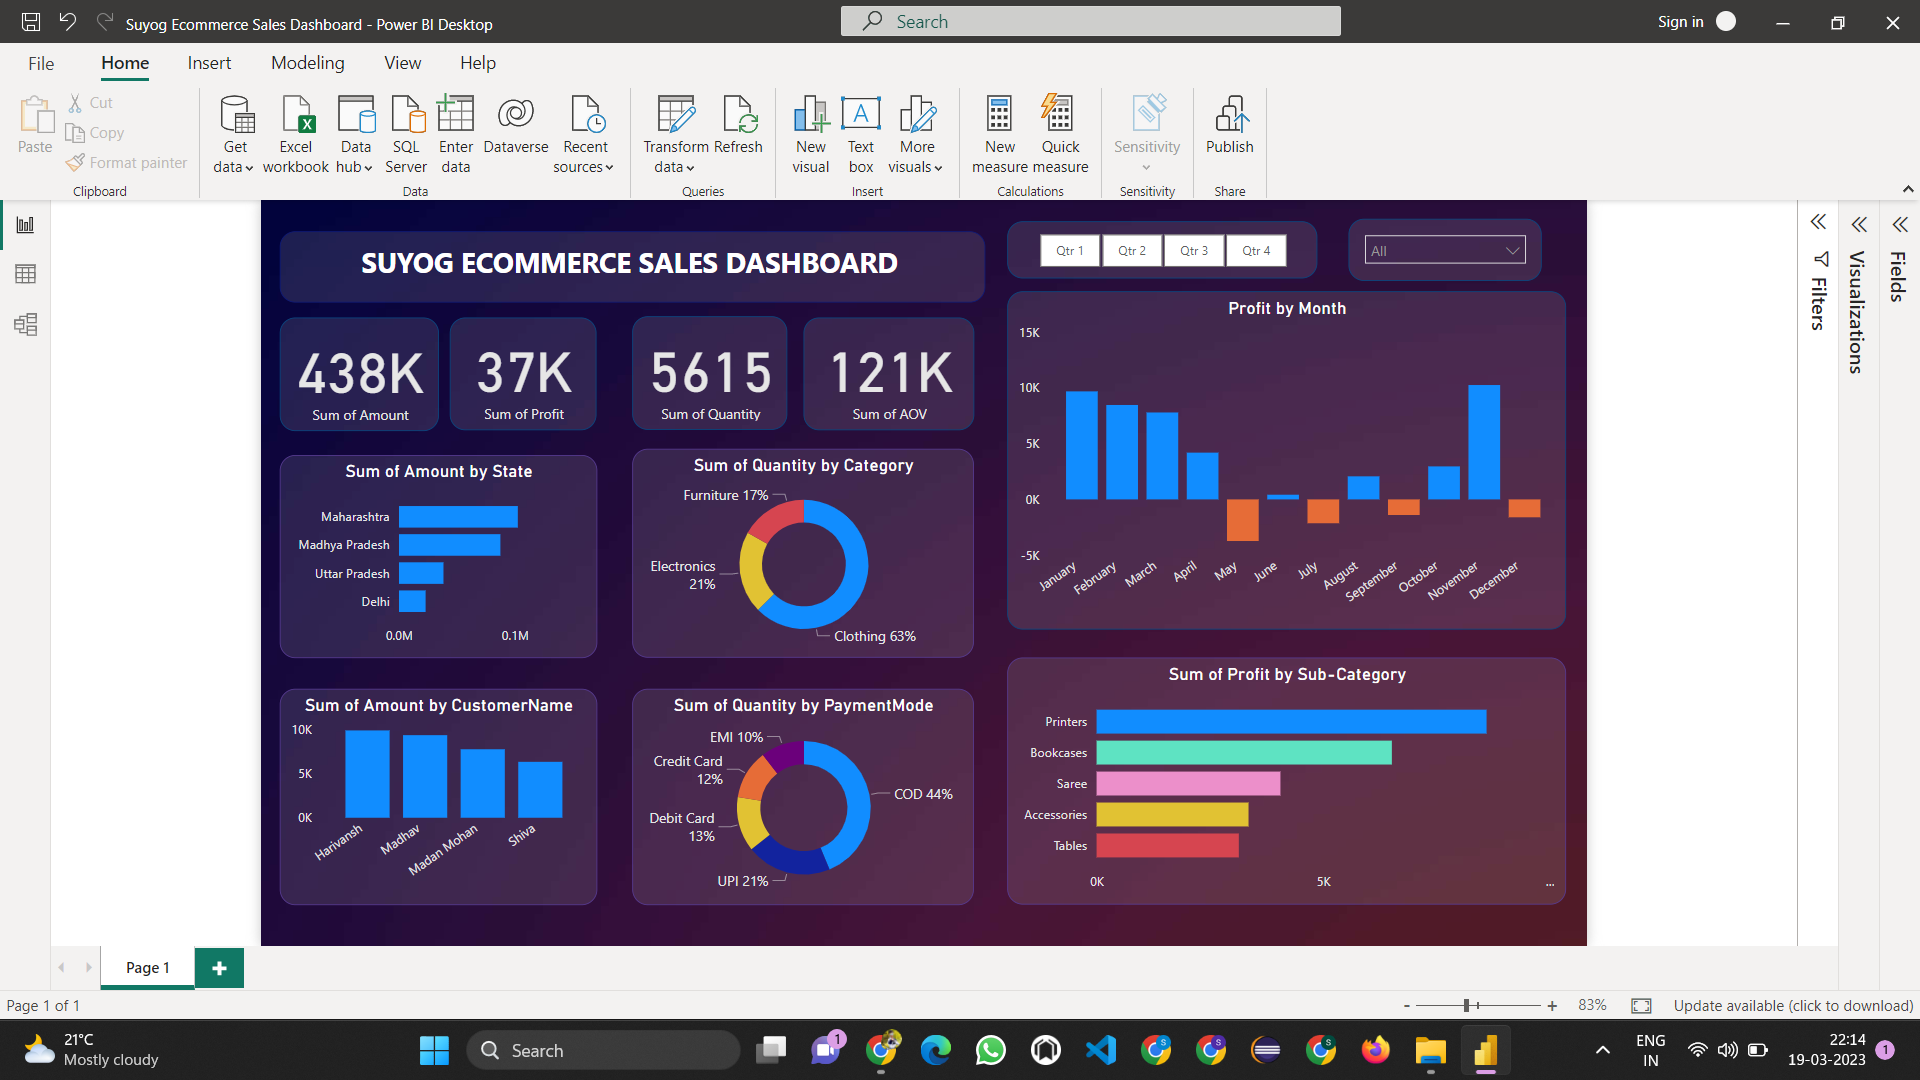

Layout of this report page (visuals, bound fields, positions):
{"tool":"powerbi","page":{"name":"Page 1","canvas":[1280,720],"ordinal":0},"visuals":[{"type":"textbox","box":[17.8,30.2,680.6,68.6],"z":0},{"type":"barChart","fields":{"Category":["Details.Sub-Category"],"Y":["Details.Profit"]},"box":[720.4,441.9,539.3,238.8],"z":1000},{"type":"donutChart","fields":{"Category":["Details.Category"],"Y":["Details.Quantity"]},"box":[358.1,240.1,329.3,201.7],"z":2000},{"type":"donutChart","fields":{"Y":["Details.Quantity"],"Category":["Details.PaymentMode"]},"box":[358.1,472,329.3,208.6],"z":3000},{"type":"columnChart","title":"Profit by Month","fields":{"Category":["Orders.Order Date.Variation.Date Hierarchy.Month"],"Y":["Details.Profit"]},"box":[720.4,87.8,539.3,326.6],"z":4000},{"type":"card","fields":{"Values":["Details.Amount"]},"box":[17.8,113.9,153.7,109.8],"z":5000},{"type":"card","fields":{"Values":["Details.Quantity"]},"box":[358.1,112.5,149.6,109.8],"z":6000},{"type":"card","fields":{"Values":["Details.Profit"]},"box":[182.5,113.9,141.3,108.4],"z":7000},{"type":"card","fields":{"Values":["Details.AOV"]},"box":[522.8,113.9,164.7,108.4],"z":8000},{"type":"barChart","fields":{"Y":["Details.Amount"],"Category":["Orders.State"]},"box":[17.8,245.6,306,196.2],"z":9000},{"type":"columnChart","fields":{"Category":["Orders.CustomerName"],"Y":["Details.Amount"]},"box":[17.8,472,306,208.6],"z":10000},{"type":"slicer","fields":{"Values":["Orders.Order Date.Variation.Date Hierarchy.Quarter"]},"box":[720.4,20.6,299.1,54.9],"z":10001},{"type":"slicer","fields":{"Values":["Orders.State"]},"box":[1049.7,17.8,186.6,60.4],"z":10002}]}

Visuals, with their boxes on the page's 1280x720 design canvas (x1, y1, x2, y2). These are canvas units, not pixel positions in the 1920x1080 screenshot, which may show the page scaled, cropped or inside an application window:
textbox: [18,30,698,99]
barChart - Details.Sub-Category x Details.Profit: [720,442,1260,681]
donutChart - Details.Category x Details.Quantity: [358,240,687,442]
donutChart - Details.Quantity x Details.PaymentMode: [358,472,687,681]
"Profit by Month" columnChart: [720,88,1260,414]
card - Details.Amount: [18,114,172,224]
card - Details.Quantity: [358,112,508,222]
card - Details.Profit: [182,114,324,222]
card - Details.AOV: [523,114,688,222]
barChart - Details.Amount x Orders.State: [18,246,324,442]
columnChart - Orders.CustomerName x Details.Amount: [18,472,324,681]
slicer - Orders.Order Date.Variation.Date Hierarchy.Quarter: [720,21,1020,76]
slicer - Orders.State: [1050,18,1236,78]
